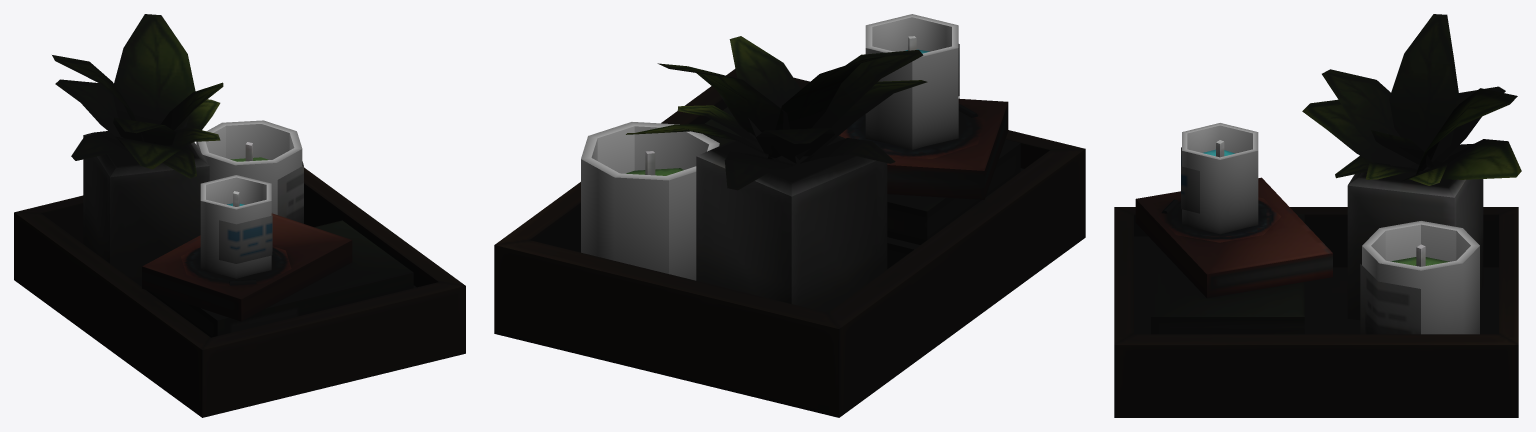
The model's file is 禅意装饰.glb.
3 views of the same model, side by side, from view 1: azimuth 30°, elevation 25°; view 2: azimuth 150°, elevation 25°; view 3: azimuth 270°, elevation 25° (orthographic). The views are drawn at different scales.
Visible parts, largest first — view 1: TinyLiving_MyKindaZen_22, s4studio_mesh_2.002_21; view 2: TinyLiving_MyKindaZen_22, s4studio_mesh_2.002_21; view 3: TinyLiving_MyKindaZen_22, s4studio_mesh_2.002_21.
Part boxes in pixels (bbox=[...]): TinyLiving_MyKindaZen_22: bbox=[14, 14, 465, 417]; s4studio_mesh_2.002_21: bbox=[196, 120, 302, 278]; TinyLiving_MyKindaZen_22: bbox=[494, 36, 1085, 417]; s4studio_mesh_2.002_21: bbox=[581, 14, 958, 280]; TinyLiving_MyKindaZen_22: bbox=[1114, 14, 1521, 417]; s4studio_mesh_2.002_21: bbox=[1182, 123, 1479, 334].
Bounding box in the file's own units: 0.3785 × 0.3414 × 0.4719.
Materials: 2 (1 with a texture image).
